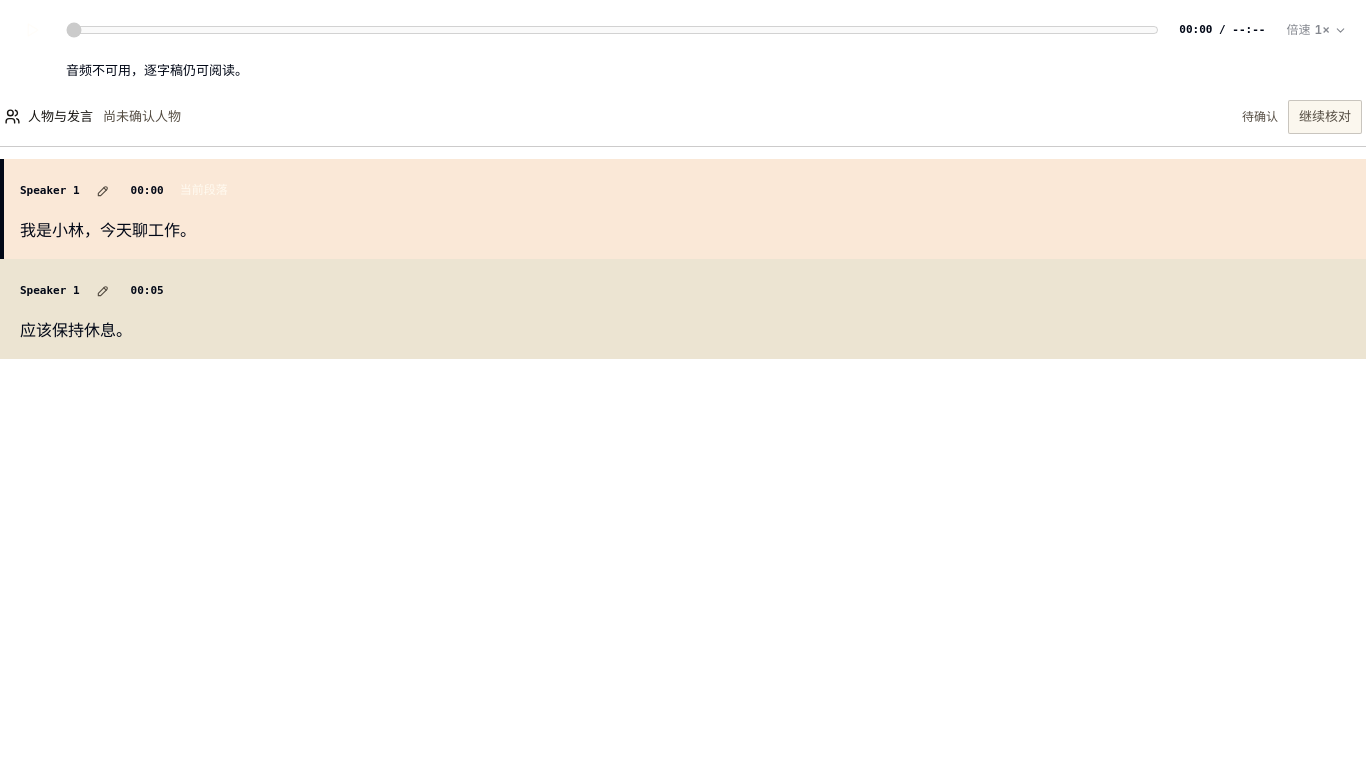
it: does not mistake the existing latest draft for a new result when reviewing history
Click the button "继续核对" at [1325, 117], box [1288,100,1362,134]
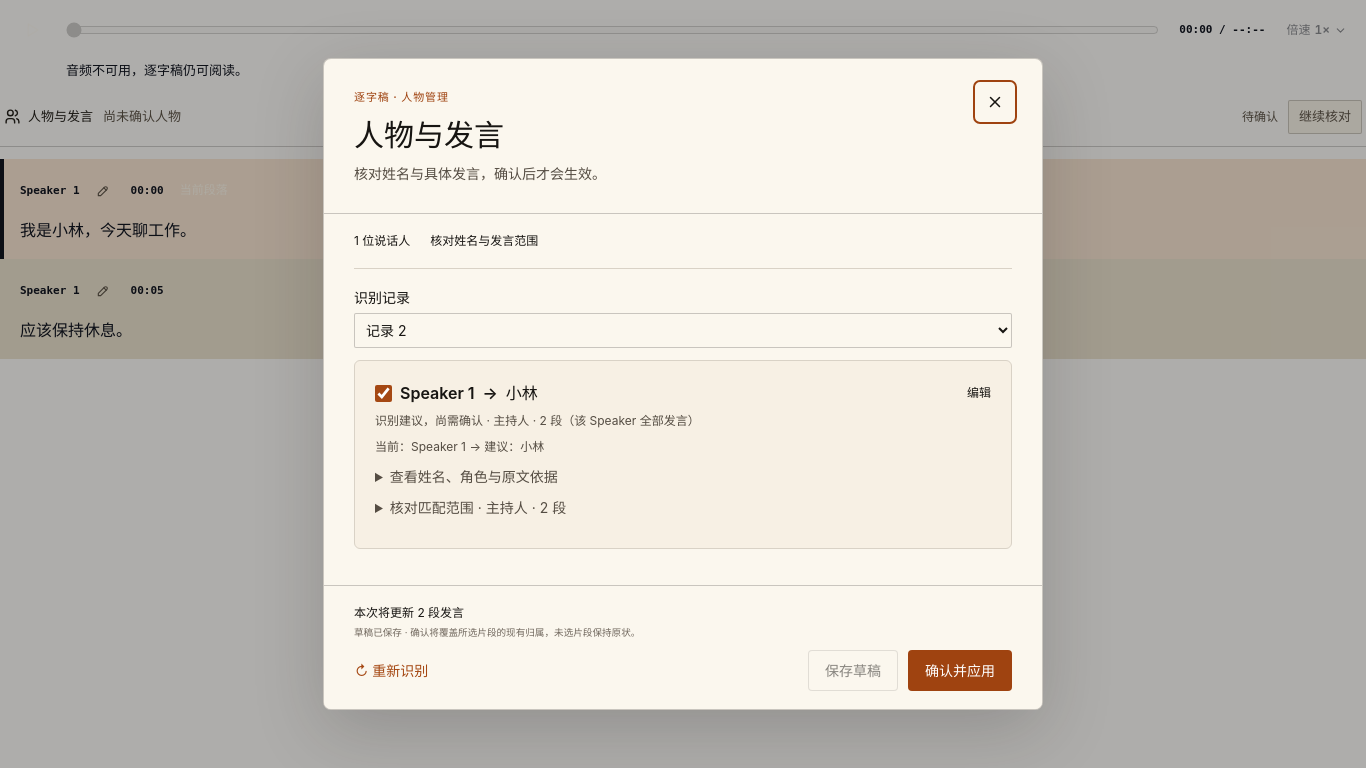
Select "记录 1" in the dropdown named "选择识别记录" at [683, 331], box [354,313,1012,348]
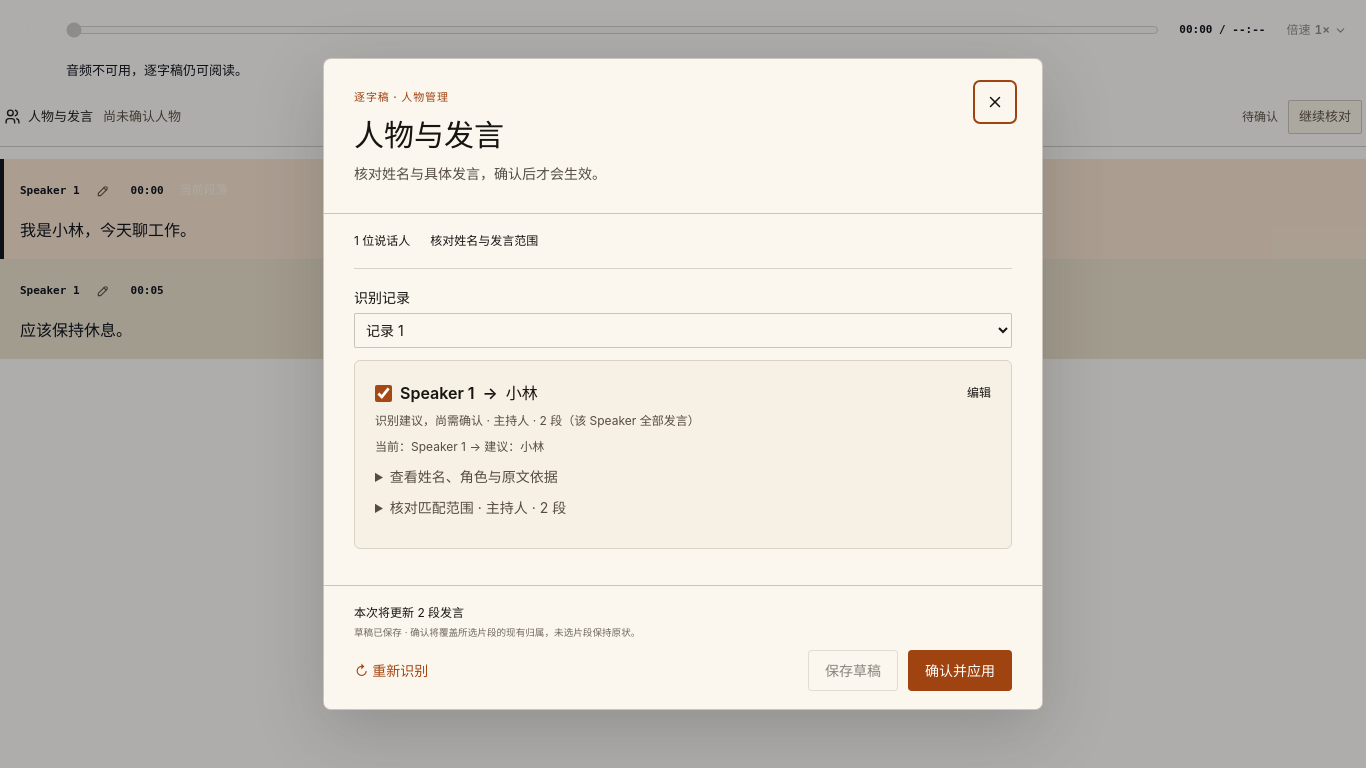
Click the button "↻ 重新识别" at [400, 671], box [354,650,445,691]
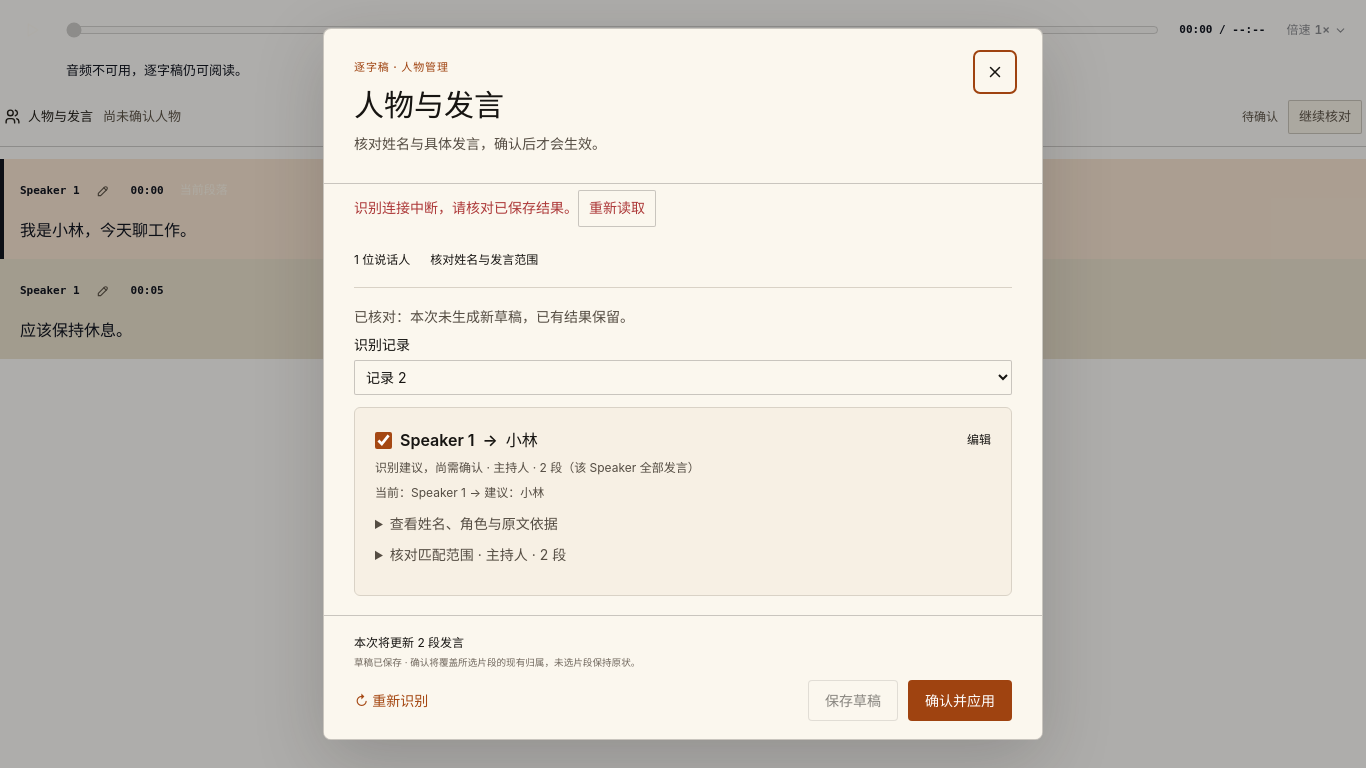
Expected: the text "识别连接中断，请核对已保存结果。" is shown, [354,199,578,216]
Expected: the text "已核对：本次未生成新草稿，已有结果保留。" is shown, [354,308,634,325]
